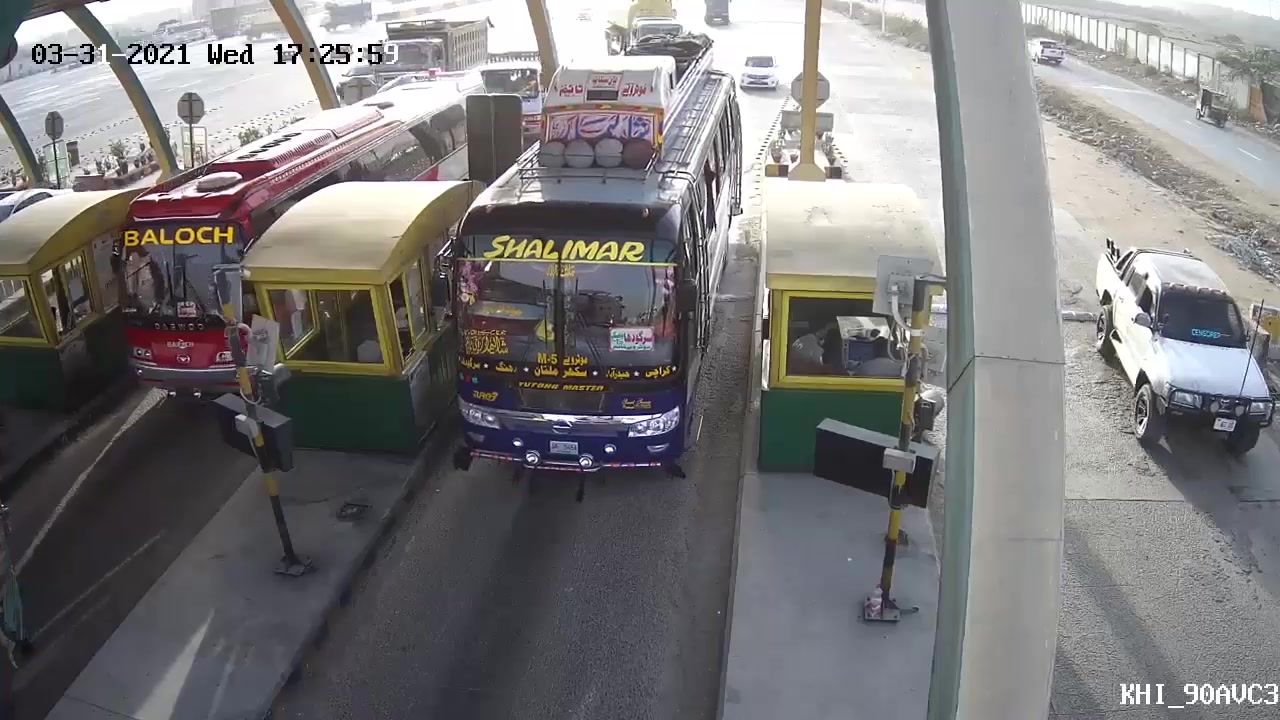F4: (435, 61, 740, 516)
